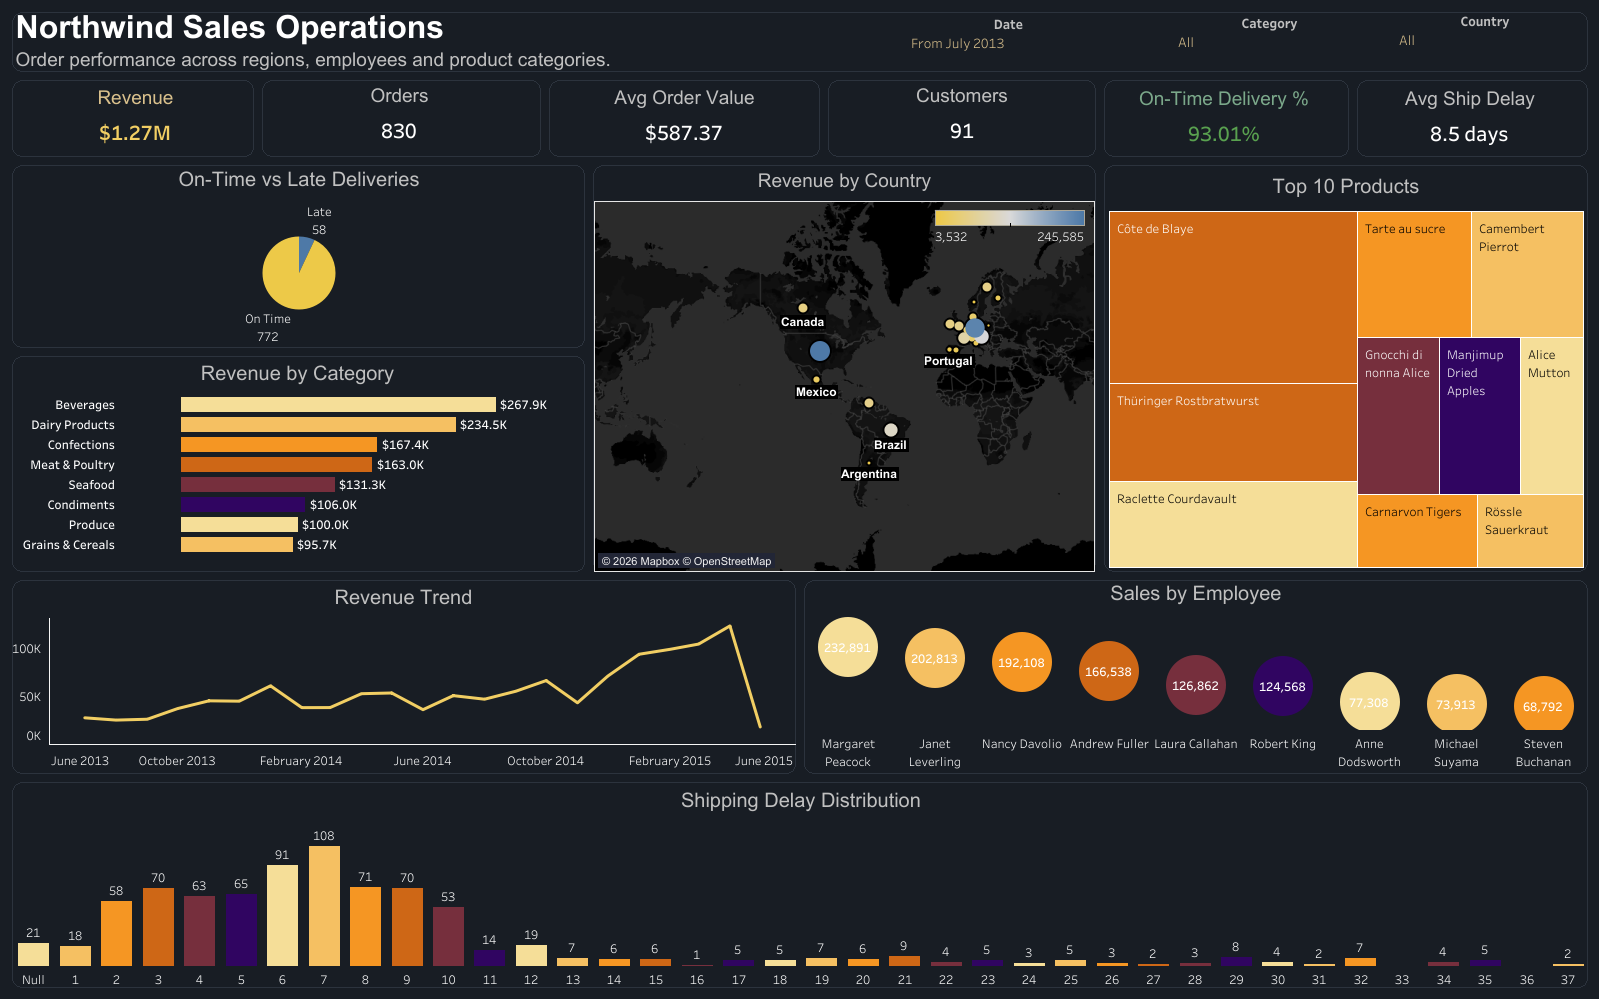

What the dashboard file says about the page in this screenshot:
{"tool":"tableau","page":{"name":"Northwind Sales Operations","canvas":[1600,1000],"ordinal":0},"visuals":[{"type":"blank","box":[8,8,1584,68]},{"type":"filter","title":"On-Time vs Late","param":"[federated.166w0e10bhu9fq1b0vfwv1nle1xv].[none:country:nk]","box":[1397,10,176,59]},{"type":"text","box":[13,11,937,31]},{"type":"filter","title":"On-Time vs Late","param":"[federated.166w0e10bhu9fq1b0vfwv1nle1xv].[none:categoryName:nk]","box":[1176,12,187,58]},{"type":"filter","title":"On-Time vs Late","param":"[federated.166w0e10bhu9fq1b0vfwv1nle1xv].[tmn:orderDate:qk]","box":[908,13,198,56]},{"type":"text","box":[13,48,745,22]},{"type":"blank","box":[8,76,250,85.2]},{"type":"blank","box":[258,76,287.1,85.2]},{"type":"blank","box":[545.1,76,278.8,85.2]},{"type":"blank","box":[823.9,76,276.3,85.2]},{"type":"blank","box":[1100.2,76,252.5,85.2]},{"type":"blank","box":[1352.7,76,239.3,85.2]},{"type":"worksheet","title":"KPI - Total Orders","mark":"Automatic","box":[259.7,78,279.4,80.8]},{"type":"worksheet","title":"KPI - Total Customers","mark":"Automatic","box":[829.5,78,264.6,76.2]},{"type":"worksheet","title":"KPI - Revenue","mark":"Automatic","box":[16,79.9,238.8,73.5]},{"type":"worksheet","title":"KPI - Avg Order Value","mark":"Automatic","box":[548.9,79.9,270.8,75.3]},{"type":"worksheet","title":"KPI - On-Time %","mark":"Automatic","box":[1100.3,80.8,247.4,78]},{"type":"worksheet","title":"KPI - Avg Ship Delay","mark":"Automatic","box":[1356.3,80.8,227.7,75.3]},{"type":"worksheet","title":"On-Time vs Late","mark":"Pie","box":[12,161,574,185]},{"type":"blank","box":[8,161.1,581,190.9]},{"type":"blank","box":[589,161.1,511,414.9]},{"type":"blank","box":[1100,161.1,492,414.9]},{"type":"worksheet","title":"Revenue by Country","mark":"Automatic","box":[594,163,501,409]},{"type":"worksheet","title":"Top 10 Products","mark":"Automatic","box":[1105,168,482,403]},{"type":"legend","title":"Revenue by Country","param":"[federated.166w0e10bhu9fq1b0vfwv1nle1xv].[sum:Calculation_0638590317490176:qk]","box":[931,206,158,38]},{"type":"blank","box":[8,352,581,224]},{"type":"worksheet","title":"Revenue by Category","mark":"Automatic","rows":["categoryName"],"cols":["Calculation_0638590317490176"],"box":[20,355,555,214]},{"type":"worksheet","title":"Sales by Employee","mark":"Circle","rows":["Calculation_0638590317490176"],"cols":["employeeName"],"box":[805,575,782,195]},{"type":"blank","box":[8,576,792,202]},{"type":"blank","box":[800,576,792,202]},{"type":"worksheet","title":"Revenue Trend","mark":"Line","rows":["Calculation_0638590317490176"],"cols":["orderDate"],"box":[12,579,783,195]},{"type":"blank","box":[8,778,1584,214]},{"type":"worksheet","title":"Shipping Delay Distribution","mark":"Bar","rows":["orderID"],"cols":["Shipping Delay (bin)"],"box":[13,782,1576,206]}]}

Visuals, with their boxes in screenshot pixels (x1, y1, x2, y2), scaled from the page's 1600x1000 canvas onto the 1599x999 screenshot:
blank: detection(8, 8, 1591, 76)
"On-Time vs Late" filter: detection(1396, 10, 1572, 69)
text: detection(13, 11, 949, 42)
"On-Time vs Late" filter: detection(1175, 12, 1362, 70)
"On-Time vs Late" filter: detection(907, 13, 1105, 69)
text: detection(13, 48, 758, 70)
blank: detection(8, 76, 258, 161)
blank: detection(258, 76, 545, 161)
blank: detection(545, 76, 823, 161)
blank: detection(823, 76, 1100, 161)
blank: detection(1100, 76, 1352, 161)
blank: detection(1352, 76, 1591, 161)
"KPI - Total Orders" worksheet: detection(260, 78, 539, 159)
"KPI - Total Customers" worksheet: detection(829, 78, 1093, 154)
"KPI - Revenue" worksheet: detection(16, 80, 255, 153)
"KPI - Avg Order Value" worksheet: detection(549, 80, 819, 155)
"KPI - On-Time %" worksheet: detection(1100, 81, 1347, 159)
"KPI - Avg Ship Delay" worksheet: detection(1355, 81, 1583, 156)
"On-Time vs Late" worksheet (Pie marks): detection(12, 161, 586, 346)
blank: detection(8, 161, 589, 352)
blank: detection(589, 161, 1099, 575)
blank: detection(1099, 161, 1591, 575)
"Revenue by Country" worksheet: detection(594, 163, 1094, 571)
"Top 10 Products" worksheet: detection(1104, 168, 1586, 570)
"Revenue by Country" legend: detection(930, 206, 1088, 244)
blank: detection(8, 352, 589, 575)
"Revenue by Category" worksheet: detection(20, 355, 575, 568)
"Sales by Employee" worksheet (Circle marks): detection(804, 574, 1586, 769)
blank: detection(8, 575, 800, 777)
blank: detection(800, 575, 1591, 777)
"Revenue Trend" worksheet (Line marks): detection(12, 578, 795, 773)
blank: detection(8, 777, 1591, 991)
"Shipping Delay Distribution" worksheet (Bar marks): detection(13, 781, 1588, 987)
